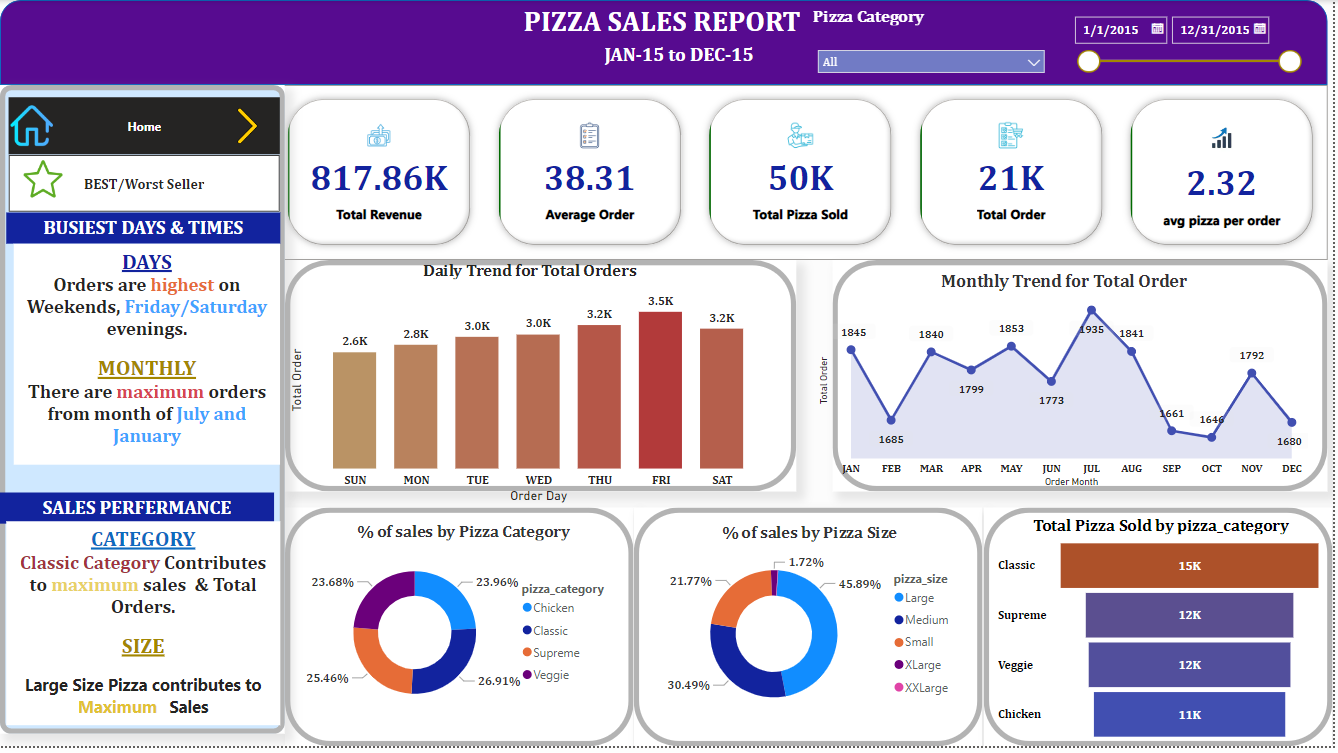

This screenshot's page, from the dashboard's own definition file:
{"tool":"powerbi","page":{"name":"Home","canvas":[1505,843],"ordinal":0},"visuals":[{"type":"cardVisual","fields":{"Data":["pizza_db pizza_sales.Total Revenue","pizza_db pizza_sales.Average Order","pizza_db pizza_sales.Total Pizza Sold","pizza_db pizza_sales.Total Order","pizza_db pizza_sales.avg pizza per order"]},"box":[309.2,96,1190.4,197.7],"z":0},{"type":"shape","box":[0,0,1499.6,96],"z":1000},{"type":"textbox","box":[564.4,0,366.1,65.2],"z":2000},{"type":"textbox","box":[654.4,43.3,226.5,51.6],"z":3000},{"type":"shape","box":[321.9,293.7,577.5,261.2],"z":4000},{"type":"columnChart","title":"Daily Trend for Total Orders","fields":{"Category":["pizza_db pizza_sales.Order Day"],"Y":["pizza_db pizza_sales.Total Order"]},"box":[321.9,293.7,552.1,279.6],"z":5000},{"type":"shape","box":[940.4,293.7,559.2,261.2],"z":6000},{"type":"areaChart","title":"Monthly Trend for Total Order","fields":{"Category":["pizza_db pizza_sales.Order Month"],"Y":["pizza_db pizza_sales.Total Order"]},"box":[920.7,305,562,249.9],"z":7000},{"type":"shape","box":[321.9,573.3,394,269.7],"z":8000},{"type":"shape","box":[715.9,573.3,394,269.7],"z":9000},{"type":"shape","box":[1111.3,573.3,394,269.7],"z":10000},{"type":"donutChart","title":"% of sales by Pizza Category","fields":{"Category":["pizza_db pizza_sales.pizza_category"],"Y":["pizza_db pizza_sales.Total Revenue"]},"box":[343.1,588.8,360.1,230.2],"z":11000},{"type":"donutChart","title":"% of sales by Pizza Size","fields":{"Y":["pizza_db pizza_sales.Total Revenue"],"Category":["pizza_db pizza_sales.pizza_size"]},"box":[734.3,590.2,360.1,230.2],"z":12000},{"type":"funnel","fields":{"Category":["pizza_db pizza_sales.pizza_category"],"Y":["pizza_db pizza_sales.Total Pizza Sold"]},"box":[1122.6,581.8,377,261.2],"z":13000},{"type":"shape","box":[0,96,321.9,732.9],"z":14000},{"type":"textbox","box":[7.1,240.1,309.2,35.3],"z":15000},{"type":"textbox","box":[15.5,275.4,300.8,249.9],"z":16000},{"type":"textbox","box":[0,556.4,309.2,35.3],"z":17000},{"type":"textbox","box":[7.1,588.8,309.2,230.2],"z":18000},{"type":"slicer","title":"Pizza Category","fields":{"Values":["pizza_db pizza_sales.order_date"]},"box":[1201.7,8.5,276.8,89],"z":19000},{"type":"slicer","title":"Pizza Category","fields":{"Values":["pizza_db pizza_sales.pizza_category"]},"box":[913.6,7.1,276.8,89],"z":20000},{"type":"pageNavigator","box":[9.9,110.1,306.4,65],"z":21000},{"type":"pageNavigator","box":[9.9,175.1,306.4,65],"z":22000},{"type":"image","box":[249.9,117.2,59.3,49.4],"z":23000},{"type":"image","box":[7.1,111.6,57.9,60.7],"z":24000},{"type":"image","box":[9.9,175.1,77.7,53.7],"z":25000}]}

Visuals, with their boxes in screenshot pixels (x1, y1, x2, y2), scaled from the page's 1505x843 canvas onto the 1338x753 screenshot:
cardVisual - pizza_db pizza_sales.Total Revenue x pizza_db pizza_sales.Average Order: {"x1": 275, "y1": 86, "x2": 1333, "y2": 262}
shape: {"x1": 0, "y1": 0, "x2": 1333, "y2": 86}
textbox: {"x1": 502, "y1": 0, "x2": 827, "y2": 58}
textbox: {"x1": 582, "y1": 39, "x2": 783, "y2": 85}
shape: {"x1": 286, "y1": 262, "x2": 800, "y2": 496}
"Daily Trend for Total Orders" columnChart: {"x1": 286, "y1": 262, "x2": 777, "y2": 512}
shape: {"x1": 836, "y1": 262, "x2": 1333, "y2": 496}
"Monthly Trend for Total Order" areaChart: {"x1": 819, "y1": 272, "x2": 1318, "y2": 496}
shape: {"x1": 286, "y1": 512, "x2": 636, "y2": 752}
shape: {"x1": 636, "y1": 512, "x2": 987, "y2": 752}
shape: {"x1": 988, "y1": 512, "x2": 1337, "y2": 752}
"% of sales by Pizza Category" donutChart: {"x1": 305, "y1": 526, "x2": 625, "y2": 732}
"% of sales by Pizza Size" donutChart: {"x1": 653, "y1": 527, "x2": 973, "y2": 733}
funnel - pizza_db pizza_sales.pizza_category x pizza_db pizza_sales.Total Pizza Sold: {"x1": 998, "y1": 520, "x2": 1333, "y2": 752}
shape: {"x1": 0, "y1": 86, "x2": 286, "y2": 740}
textbox: {"x1": 6, "y1": 214, "x2": 281, "y2": 246}
textbox: {"x1": 14, "y1": 246, "x2": 281, "y2": 469}
textbox: {"x1": 0, "y1": 497, "x2": 275, "y2": 529}
textbox: {"x1": 6, "y1": 526, "x2": 281, "y2": 732}
"Pizza Category" slicer: {"x1": 1068, "y1": 8, "x2": 1314, "y2": 87}
"Pizza Category" slicer: {"x1": 812, "y1": 6, "x2": 1058, "y2": 86}
pageNavigator: {"x1": 9, "y1": 98, "x2": 281, "y2": 156}
pageNavigator: {"x1": 9, "y1": 156, "x2": 281, "y2": 214}
image: {"x1": 222, "y1": 105, "x2": 275, "y2": 149}
image: {"x1": 6, "y1": 100, "x2": 58, "y2": 154}
image: {"x1": 9, "y1": 156, "x2": 78, "y2": 204}
